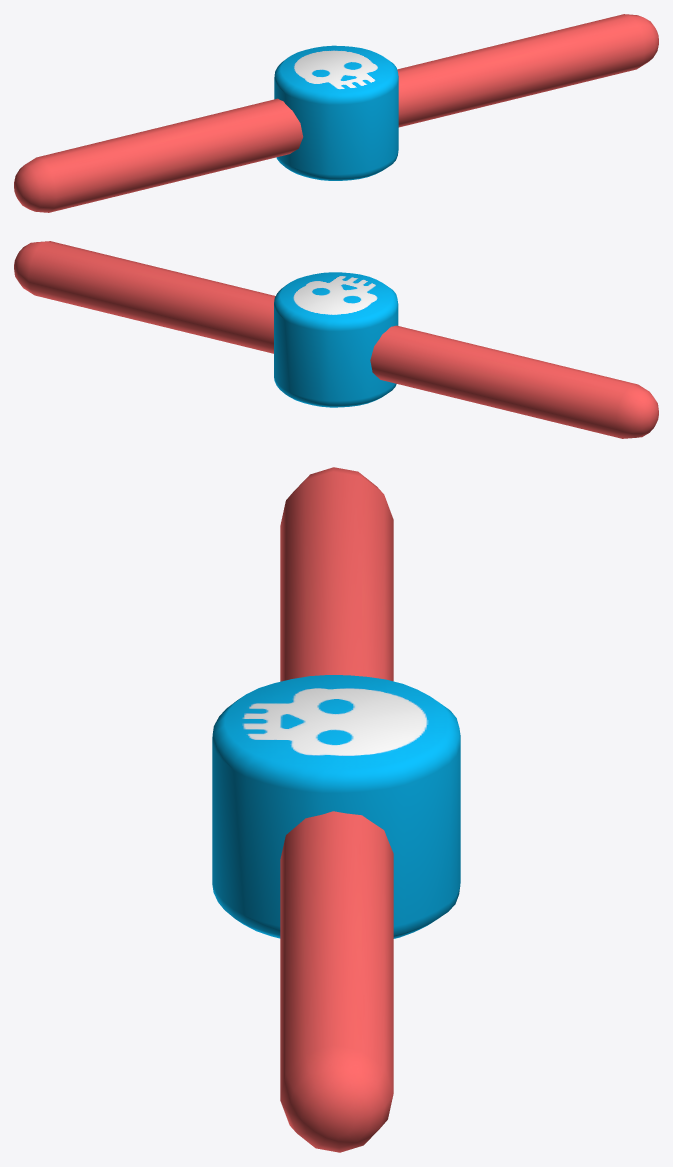
Rendered from stick_2_1.FBX.
The picture shows the model from 3 angles, top to bottom: view 1: azimuth 30°, elevation 25°; view 2: azimuth 150°, elevation 25°; view 3: azimuth 270°, elevation 25°; orthographic projection. The views are drawn at different scales.
Visible parts, largest first — view 1: stick_2_1; view 2: stick_2_1; view 3: stick_2_1.
Part boxes in pixels (<box>): stick_2_1: <box>14,14,658,212</box>; stick_2_1: <box>14,241,658,438</box>; stick_2_1: <box>212,467,460,1152</box>.
Size of the model in its own units: 8.81 by 1.16 by 1.49.
Materials: 1 (1 with a texture image).
